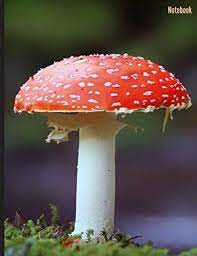Amanita muscaria: (9, 43, 193, 236)
